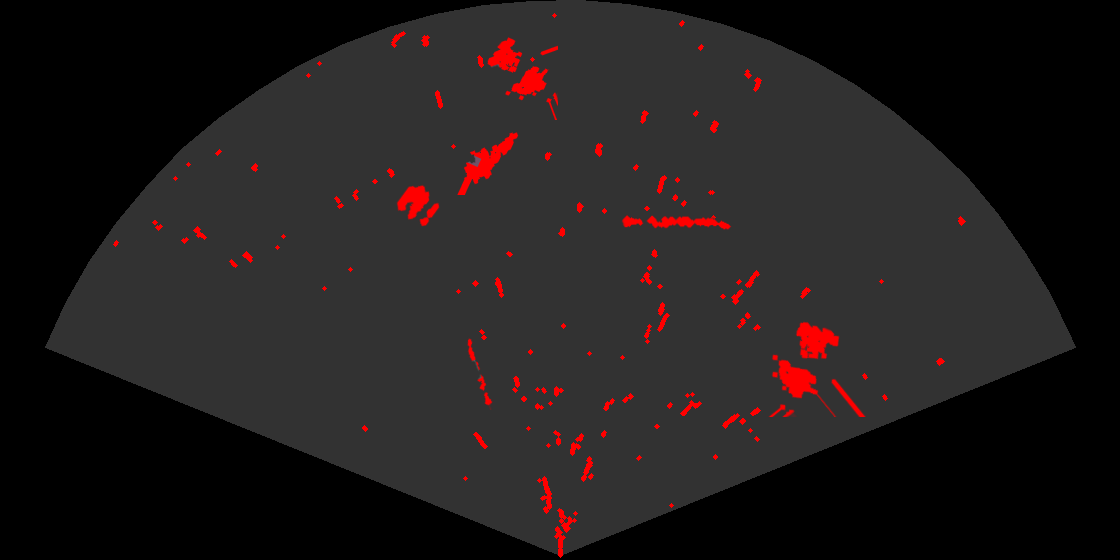ball: (395, 183, 441, 228)
cage: (767, 320, 866, 417), (486, 36, 558, 120)
chain: (466, 336, 494, 410), (621, 214, 732, 231)
frogman: (456, 131, 520, 195)
